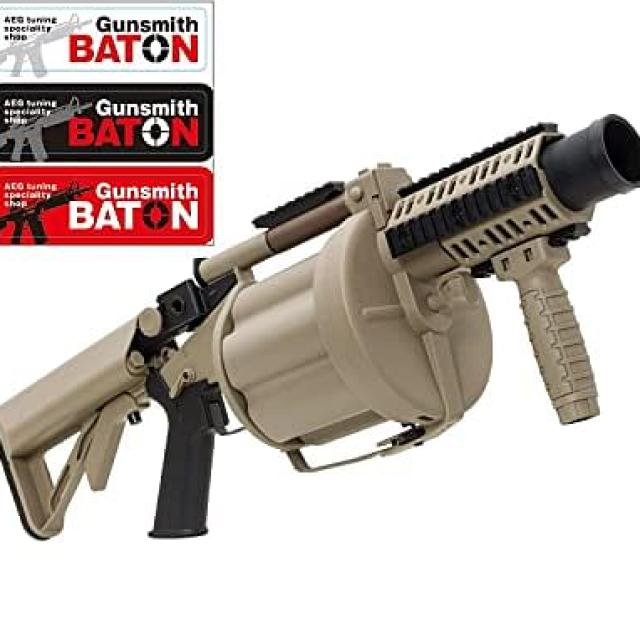Weapon: (0, 114, 640, 538)
